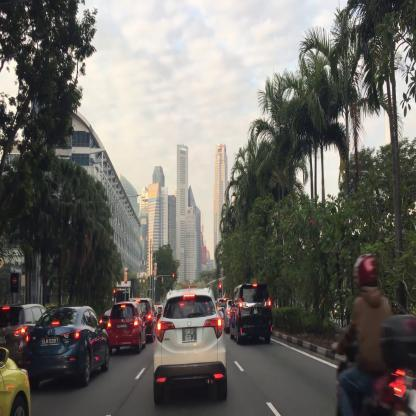red_traffic_light: (218, 284, 222, 292), (113, 289, 116, 297), (170, 274, 174, 277)
